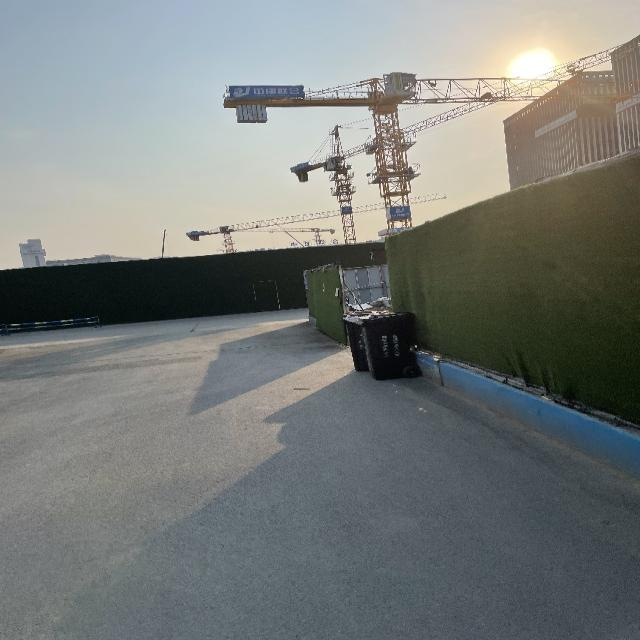garbage_bin: (356, 311, 416, 379)
overflow: (344, 310, 369, 372)
